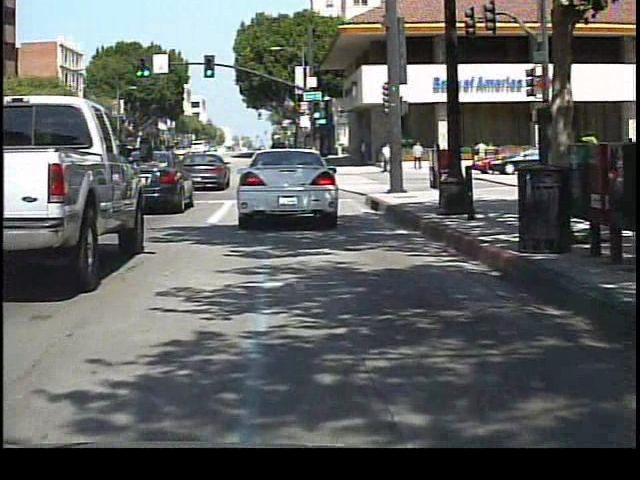person: (471, 137, 491, 172), (410, 140, 427, 173), (379, 140, 394, 175)
